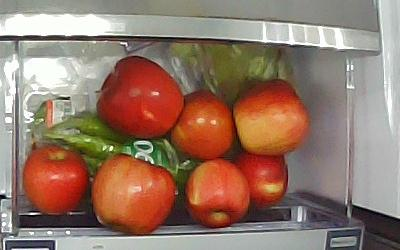apple: (96, 56, 184, 138), (92, 153, 176, 235), (231, 79, 309, 157), (21, 146, 88, 215), (184, 160, 251, 229), (172, 89, 236, 161), (235, 153, 288, 208)
